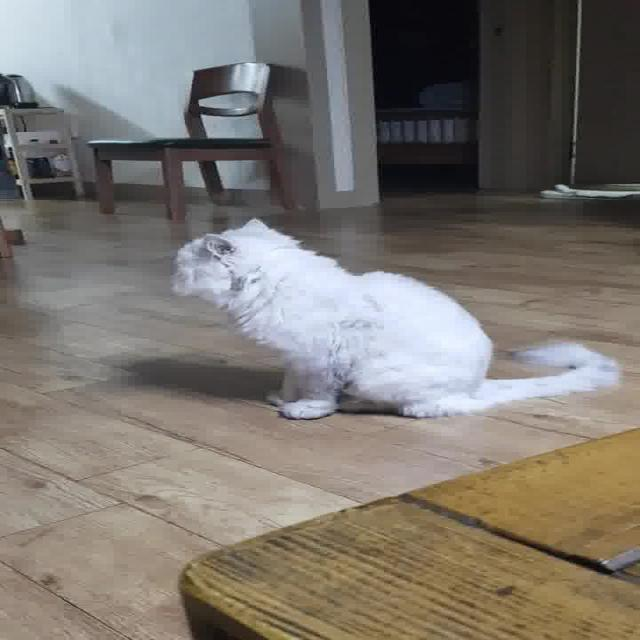cat: (139, 210, 640, 424)
